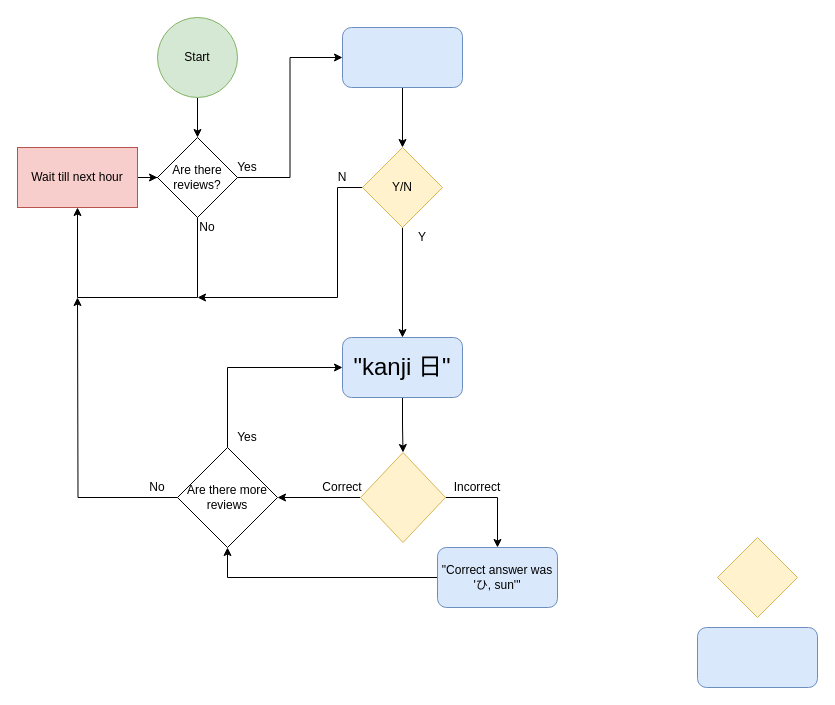
This 835x705 diagram has some shape labels left out. Each missing label, with the box of its shape:
"You have # reviews, would you like to complete them (Y/N)": (342, 26, 462, 88)
User Input: (716, 536, 798, 618)
User prompt: (696, 626, 818, 688)
ひ, sun: (360, 452, 446, 542)
